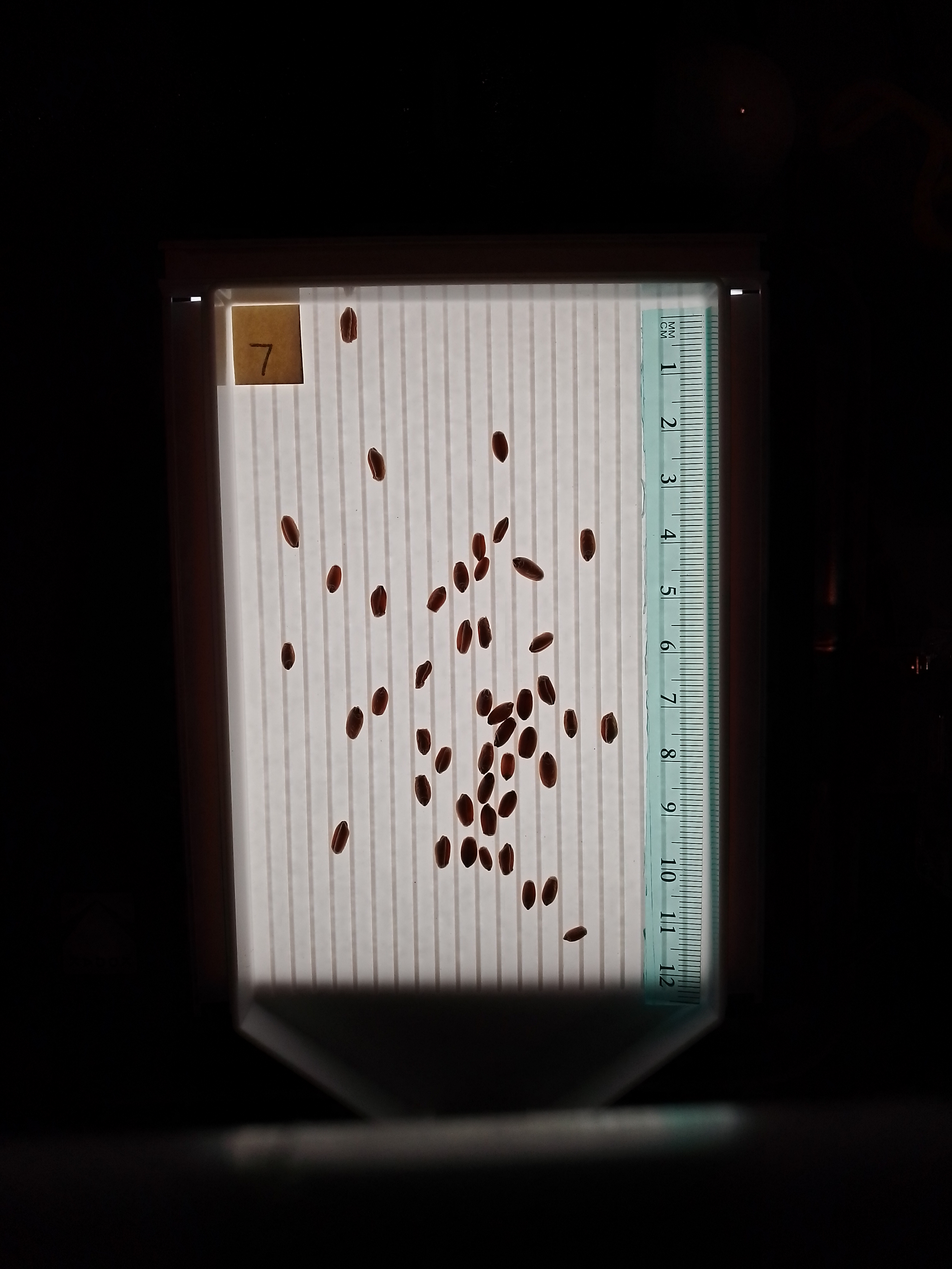seed mask: (513, 557, 543, 582), (367, 448, 386, 481), (539, 753, 557, 787), (331, 822, 350, 854), (340, 308, 357, 342), (281, 516, 299, 548), (346, 707, 364, 739), (456, 795, 474, 826), (457, 621, 473, 654), (519, 727, 536, 758), (601, 713, 618, 744), (537, 676, 555, 704), (371, 586, 387, 617), (496, 719, 515, 745), (489, 703, 512, 724), (529, 633, 553, 653), (480, 805, 496, 835), (415, 775, 431, 805), (517, 689, 533, 719), (453, 562, 469, 592), (492, 432, 508, 462), (461, 837, 477, 867), (499, 792, 517, 818), (428, 586, 446, 612), (435, 837, 450, 868), (580, 529, 595, 560), (542, 877, 558, 905), (478, 774, 494, 802), (372, 687, 388, 715), (435, 747, 452, 773), (478, 744, 493, 773), (327, 565, 342, 593), (493, 517, 509, 543), (416, 662, 432, 688), (499, 845, 513, 874), (477, 689, 492, 716), (478, 617, 491, 648), (522, 881, 536, 909), (564, 710, 578, 738), (281, 643, 295, 670), (500, 754, 515, 779), (564, 925, 586, 942), (473, 534, 486, 562), (475, 556, 489, 581), (417, 729, 430, 753), (479, 848, 492, 870)
